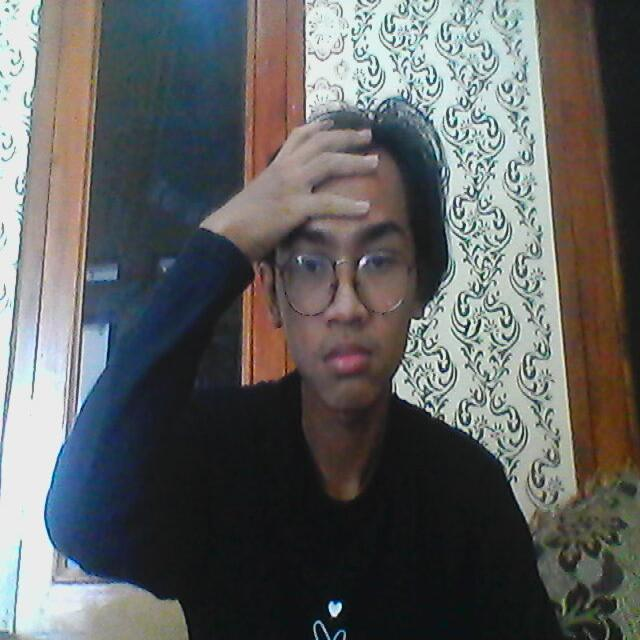eye: (292, 255, 330, 283), (361, 251, 395, 274)
gaze: (371, 254, 385, 270), (306, 261, 317, 274)
